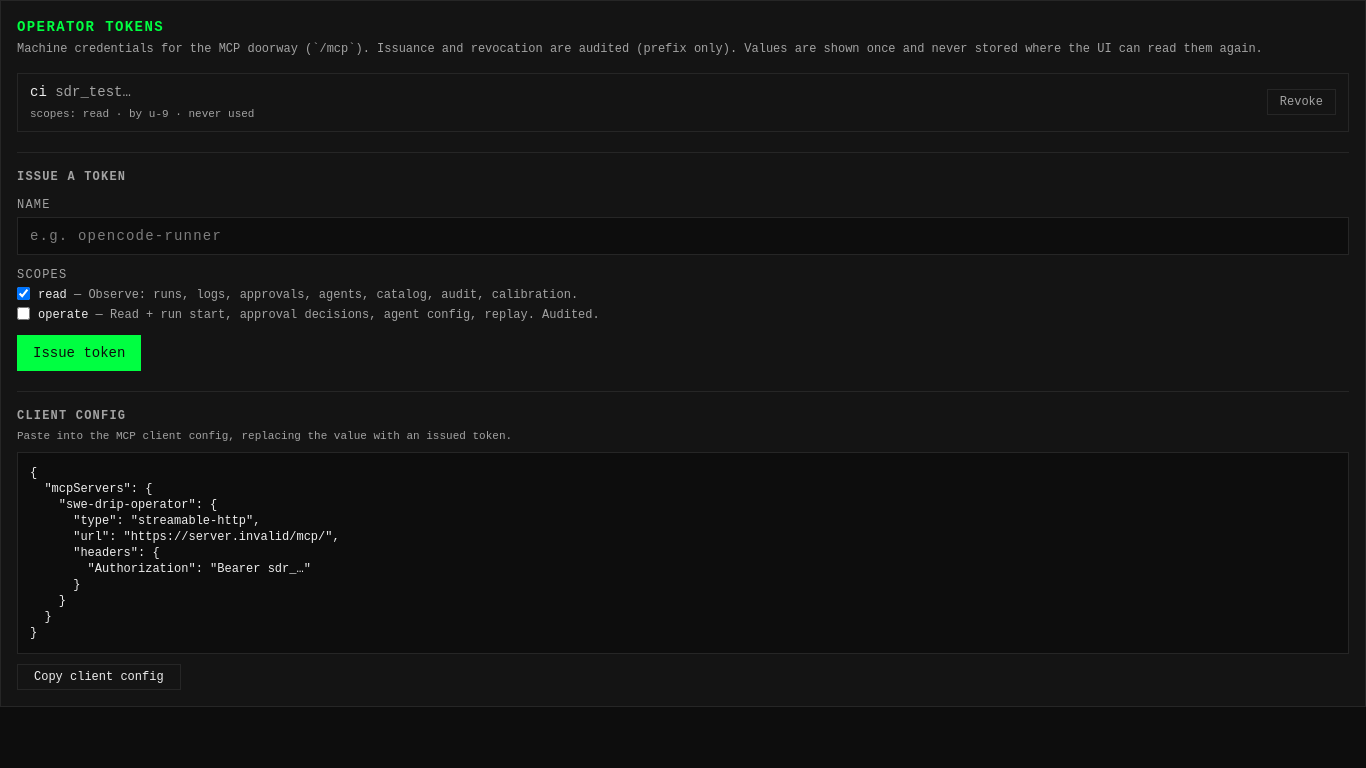
Test: OperatorTokens section › empty name blocks issuance without a request
The width and height of the screenshot is (1366, 768).
Expected: the text "ci" is shown, 30,84 -> 47,100
Click the button "Issue token" at (79, 352), box 17,334 -> 141,370
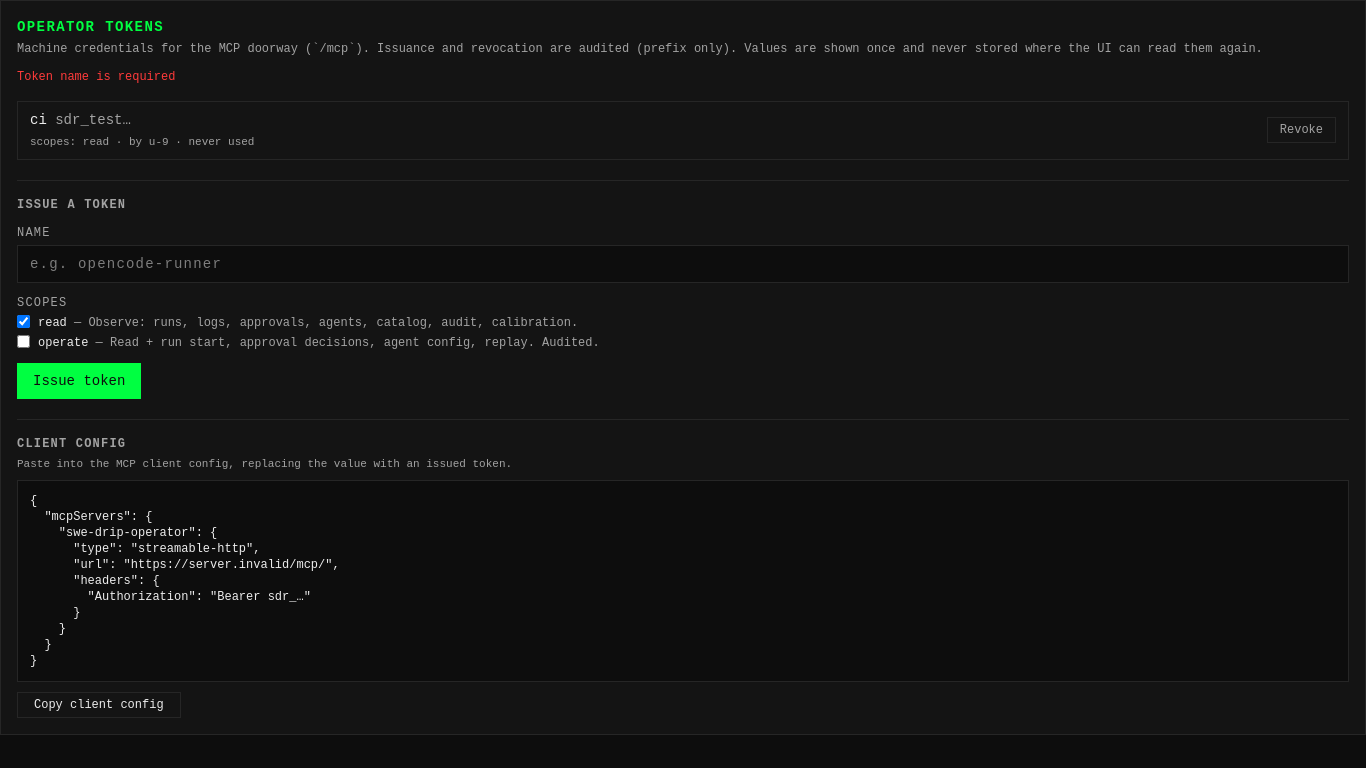
Result: the text "Token name is required" is shown at 17,70 -> 175,84
